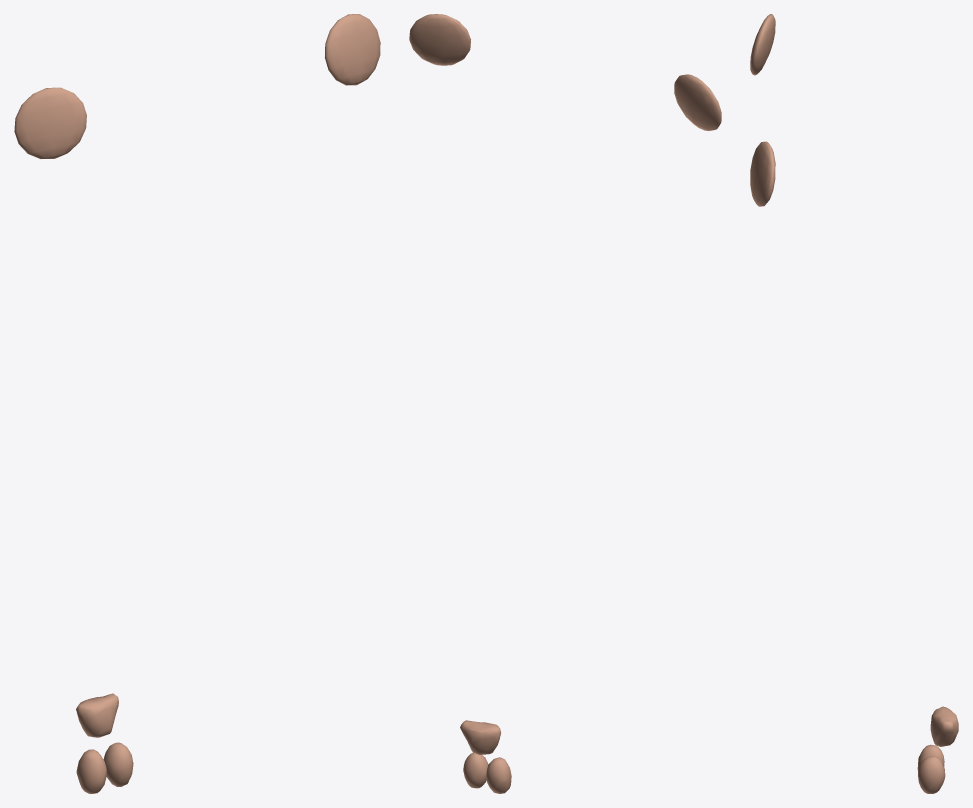
File: pediatric_child_5y_male.reproductive.LOD1.glb
The picture shows the model from 3 angles, left to right: view 1: azimuth 30°, elevation 25°; view 2: azimuth 150°, elevation 25°; view 3: azimuth 270°, elevation 25°; orthographic projection. The views are drawn at different scales.
Visible parts, largest first — view 1: PEDIATRIC.CHILD_5Y.MALE.REPRODUCTIVE.BREAST_ADIPOSE_TISSUE.R, PEDIATRIC.CHILD_5Y.MALE.REPRODUCTIVE.BREAST_ADIPOSE_TISSUE.L, PEDIATRIC.CHILD_5Y.MALE.REPRODUCTIVE.PROSTATE, PEDIATRIC.CHILD_5Y.MALE.REPRODUCTIVE.TESTIS.R, PEDIATRIC.CHILD_5Y.MALE.REPRODUCTIVE.TESTIS.L; view 2: PEDIATRIC.CHILD_5Y.MALE.REPRODUCTIVE.BREAST_ADIPOSE_TISSUE.L, PEDIATRIC.CHILD_5Y.MALE.REPRODUCTIVE.BREAST_ADIPOSE_TISSUE.R, PEDIATRIC.CHILD_5Y.MALE.REPRODUCTIVE.PROSTATE, PEDIATRIC.CHILD_5Y.MALE.REPRODUCTIVE.TESTIS.R, PEDIATRIC.CHILD_5Y.MALE.REPRODUCTIVE.TESTIS.L; view 3: PEDIATRIC.CHILD_5Y.MALE.REPRODUCTIVE.BREAST_ADIPOSE_TISSUE.L, PEDIATRIC.CHILD_5Y.MALE.REPRODUCTIVE.BREAST_ADIPOSE_TISSUE.R, PEDIATRIC.CHILD_5Y.MALE.REPRODUCTIVE.PROSTATE, PEDIATRIC.CHILD_5Y.MALE.REPRODUCTIVE.TESTIS.L.
Boxes of the visible parts, bbox=[...] form: PEDIATRIC.CHILD_5Y.MALE.REPRODUCTIVE.BREAST_ADIPOSE_TISSUE.R: bbox=[14, 87, 86, 158]; PEDIATRIC.CHILD_5Y.MALE.REPRODUCTIVE.BREAST_ADIPOSE_TISSUE.L: bbox=[324, 14, 380, 85]; PEDIATRIC.CHILD_5Y.MALE.REPRODUCTIVE.PROSTATE: bbox=[76, 693, 118, 737]; PEDIATRIC.CHILD_5Y.MALE.REPRODUCTIVE.TESTIS.R: bbox=[76, 749, 106, 793]; PEDIATRIC.CHILD_5Y.MALE.REPRODUCTIVE.TESTIS.L: bbox=[103, 742, 133, 786]; PEDIATRIC.CHILD_5Y.MALE.REPRODUCTIVE.BREAST_ADIPOSE_TISSUE.L: bbox=[409, 14, 470, 65]; PEDIATRIC.CHILD_5Y.MALE.REPRODUCTIVE.BREAST_ADIPOSE_TISSUE.R: bbox=[674, 74, 721, 130]; PEDIATRIC.CHILD_5Y.MALE.REPRODUCTIVE.PROSTATE: bbox=[460, 720, 500, 754]; PEDIATRIC.CHILD_5Y.MALE.REPRODUCTIVE.TESTIS.R: bbox=[486, 757, 511, 793]; PEDIATRIC.CHILD_5Y.MALE.REPRODUCTIVE.TESTIS.L: bbox=[463, 752, 488, 788]; PEDIATRIC.CHILD_5Y.MALE.REPRODUCTIVE.BREAST_ADIPOSE_TISSUE.L: bbox=[750, 141, 775, 206]; PEDIATRIC.CHILD_5Y.MALE.REPRODUCTIVE.BREAST_ADIPOSE_TISSUE.R: bbox=[750, 14, 775, 75]; PEDIATRIC.CHILD_5Y.MALE.REPRODUCTIVE.PROSTATE: bbox=[930, 706, 958, 746]; PEDIATRIC.CHILD_5Y.MALE.REPRODUCTIVE.TESTIS.L: bbox=[918, 756, 945, 793].
Size of the model in its own units: 0.1449 by 0.3049 by 0.0815.
